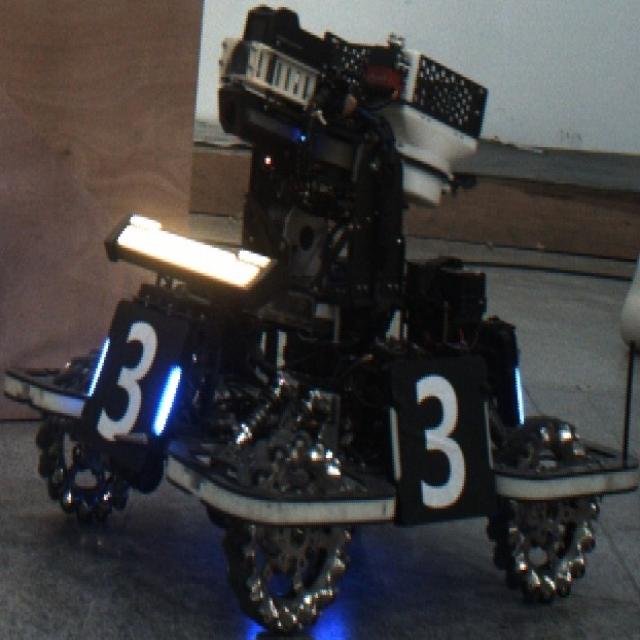B3: (87, 318, 181, 438)
